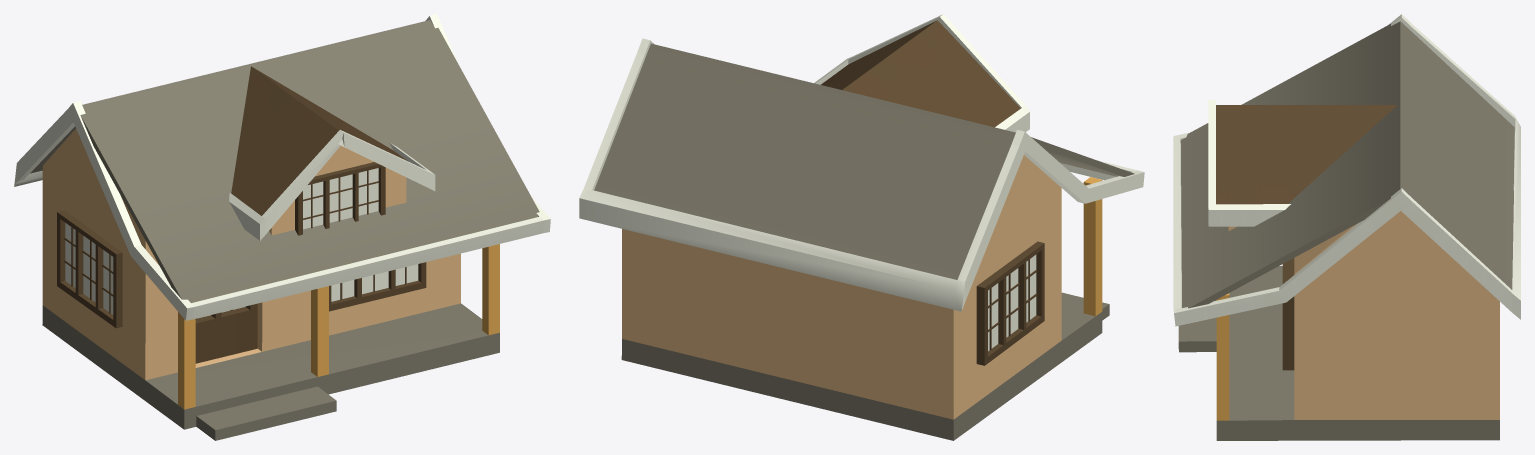
Rendered from house-3.lod.glb.
3 views of the same model, side by side, from view 1: azimuth 30°, elevation 25°; view 2: azimuth 150°, elevation 25°; view 3: azimuth 270°, elevation 25° (orthographic). The views are drawn at different scales.
Visible parts, largest first — view 1: Object_2; view 2: Object_2; view 3: Object_2.
Boxes of the visible parts, left/top/right/bottom form: Object_2: left=14, top=14, right=550, bottom=440; Object_2: left=579, top=14, right=1144, bottom=440; Object_2: left=1173, top=14, right=1520, bottom=440.
Bounding box in the file's own units: 2.46 × 1.7 × 2.03.
Materials: 1 (1 with a texture image).
